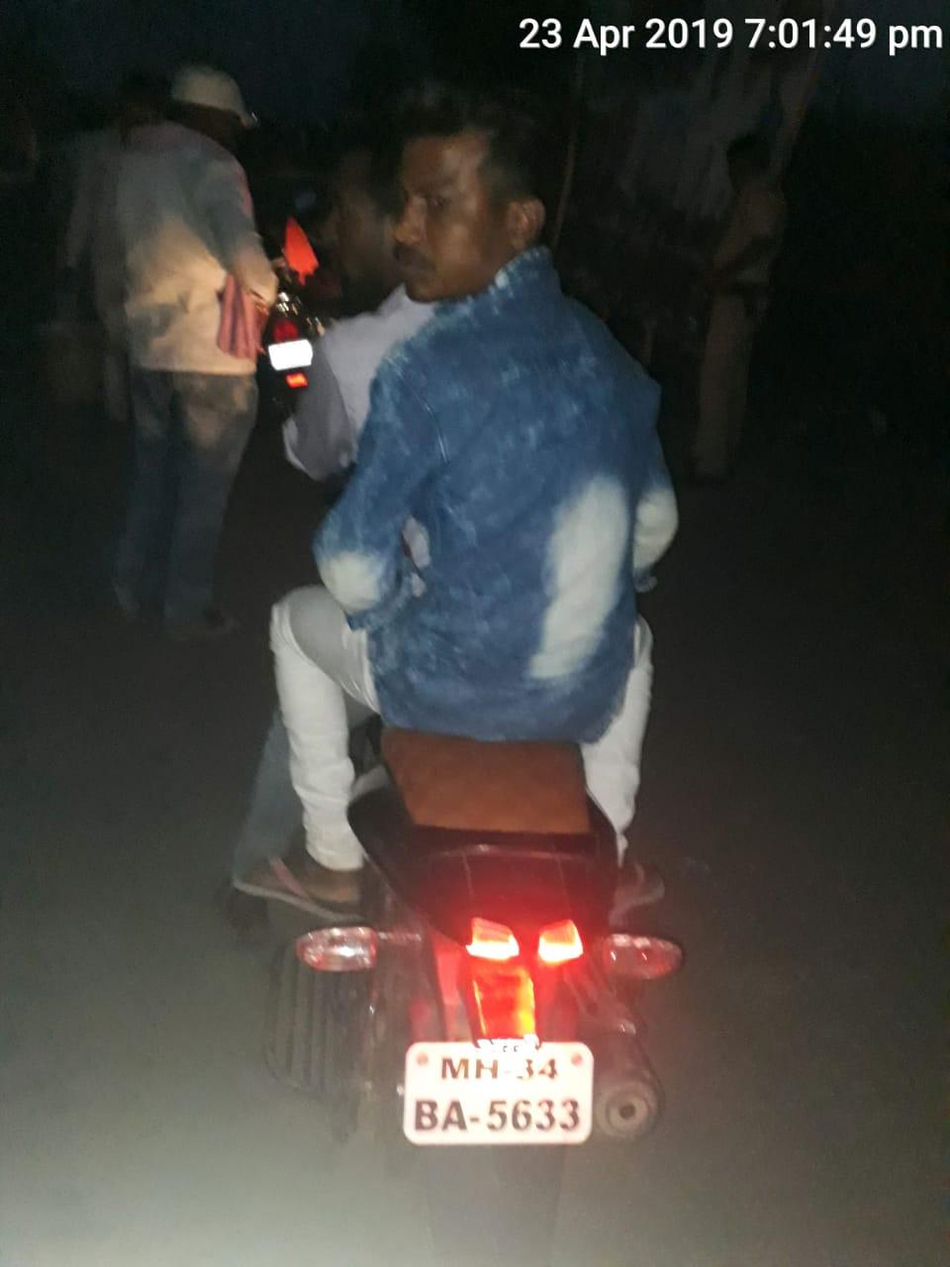plate: (360, 1005, 623, 1175)
